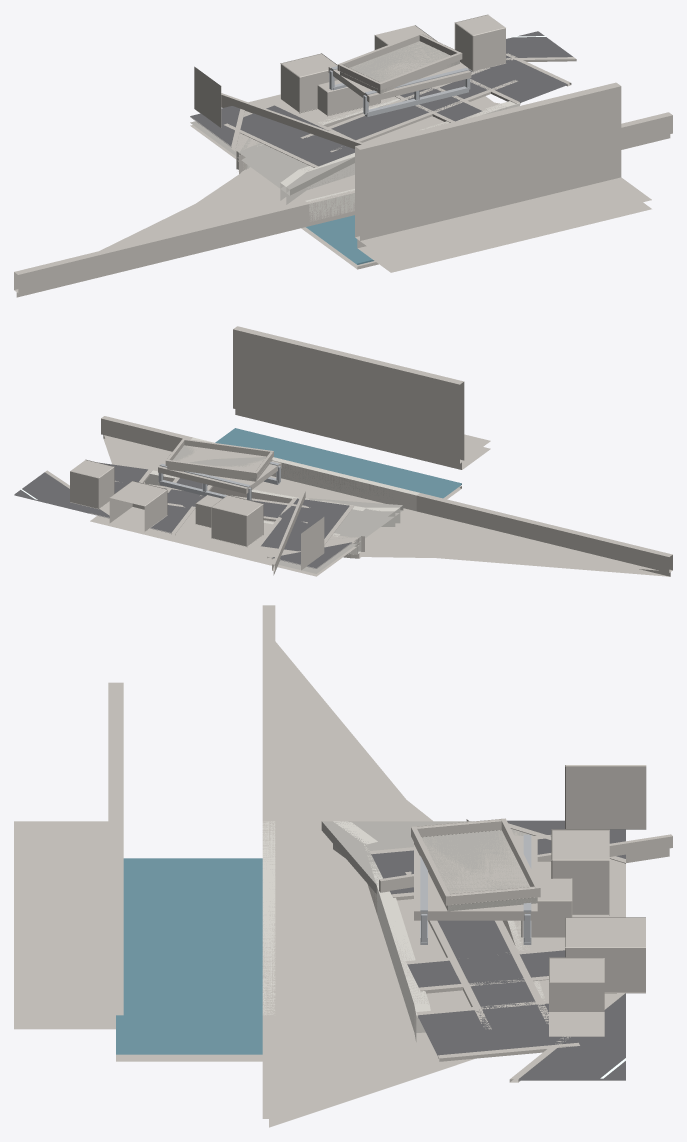
The model's file is tile_1_0.glb.
3 renders of one model, top to bottom at view 1: azimuth 30°, elevation 25°; view 2: azimuth 150°, elevation 25°; view 3: azimuth 270°, elevation 25°, orthographic. The views are drawn at different scales.
Visible parts, largest first — view 1: t1_0_hlod, t1_0_c3_0_0_concrete, t1_0_c4_0_0_concrete, t1_0_c5_0_0_concrete, t1_0_c6_2_-1_road, t1_0_c3_2_-1_road, t1_0_c4_2_-1_deck, t1_0_c5_2_0_road, t1_0_c3_2_-1_concrete, t1_0_c4_2_-1_road, t1_0_c4_2_0_road, t1_0_c4_2_0_deck (+13 smaller); view 2: t1_0_hlod, t1_0_c3_0_0_concrete, t1_0_c4_0_0_concrete, t1_0_c5_0_0_concrete, t1_0_c6_2_-1_road, t1_0_c4_2_-1_concrete, t1_0_c3_2_-1_road, t1_0_c3_0_-1_stone, t1_0_c3_2_-1_concrete, t1_0_c4_2_-1_deck, t1_0_c4_1_-1_stone, t1_0_c5_2_0_road (+15 smaller); view 3: t1_0_hlod, t1_0_c5_0_0_concrete, t1_0_c5_1_-1_concrete, t1_0_c6_2_-1_road, t1_0_c4_0_0_concrete, t1_0_c3_0_0_concrete, t1_0_c5_1_-1_water, t1_0_c3_0_-1_water, t1_0_c4_1_-1_water, t1_0_c5_2_0_road, t1_0_c4_1_-1_concrete, t1_0_c4_2_0_deck (+18 smaller).
Part boxes in pixels (x1=…): t1_0_hlod: x1=14, y1=14, x2=672, y2=297; t1_0_c3_0_0_concrete: x1=341, y1=125, x2=477, y2=272; t1_0_c4_0_0_concrete: x1=442, y1=104, x2=564, y2=251; t1_0_c5_0_0_concrete: x1=529, y1=82, x2=651, y2=230; t1_0_c6_2_-1_road: x1=479, y1=31, x2=572, y2=102; t1_0_c3_2_-1_road: x1=190, y1=105, x2=322, y2=146; t1_0_c4_2_-1_deck: x1=240, y1=146, x2=354, y2=195; t1_0_c5_2_0_road: x1=400, y1=68, x2=516, y2=121; t1_0_c3_2_-1_concrete: x1=190, y1=95, x2=320, y2=173; t1_0_c4_2_-1_road: x1=273, y1=135, x2=354, y2=166; t1_0_c4_2_0_road: x1=322, y1=107, x2=420, y2=151; t1_0_c4_2_0_deck: x1=340, y1=50, x2=420, y2=93; t1_0_hlod: x1=70, y1=416, x2=672, y2=576; t1_0_c3_0_0_concrete: x1=384, y1=363, x2=490, y2=499; t1_0_c4_0_0_concrete: x1=308, y1=344, x2=387, y2=451; t1_0_c5_0_0_concrete: x1=233, y1=326, x2=312, y2=432; t1_0_c6_2_-1_road: x1=14, y1=462, x2=147, y2=513; t1_0_c4_2_-1_concrete: x1=165, y1=505, x2=353, y2=558; t1_0_c3_2_-1_road: x1=261, y1=518, x2=351, y2=568; t1_0_c3_0_-1_stone: x1=341, y1=474, x2=419, y2=511; t1_0_c3_2_-1_concrete: x1=241, y1=522, x2=359, y2=576; t1_0_c4_2_-1_deck: x1=310, y1=498, x2=403, y2=541; t1_0_c4_1_-1_stone: x1=251, y1=457, x2=344, y2=499; t1_0_c5_2_0_road: x1=90, y1=471, x2=207, y2=531; t1_0_hlod: x1=262, y1=605, x2=672, y2=1127; t1_0_c5_0_0_concrete: x1=14, y1=812, x2=166, y2=1061; t1_0_c5_1_-1_concrete: x1=167, y1=978, x2=470, y2=1061; t1_0_c6_2_-1_road: x1=418, y1=1014, x2=625, y2=1080; t1_0_c4_0_0_concrete: x1=14, y1=747, x2=123, y2=950; t1_0_c3_0_0_concrete: x1=14, y1=682, x2=123, y2=885; t1_0_c5_1_-1_water: x1=167, y1=987, x2=262, y2=1054; t1_0_c3_0_-1_water: x1=167, y1=858, x2=262, y2=922; t1_0_c4_1_-1_water: x1=167, y1=923, x2=262, y2=987; t1_0_c5_2_0_road: x1=407, y1=950, x2=625, y2=1014; t1_0_c4_1_-1_concrete: x1=275, y1=915, x2=445, y2=978; t1_0_c4_2_0_deck: x1=414, y1=830, x2=521, y2=876.
Size of what is drawn, in the model's own units: 451 by 80 by 258.
